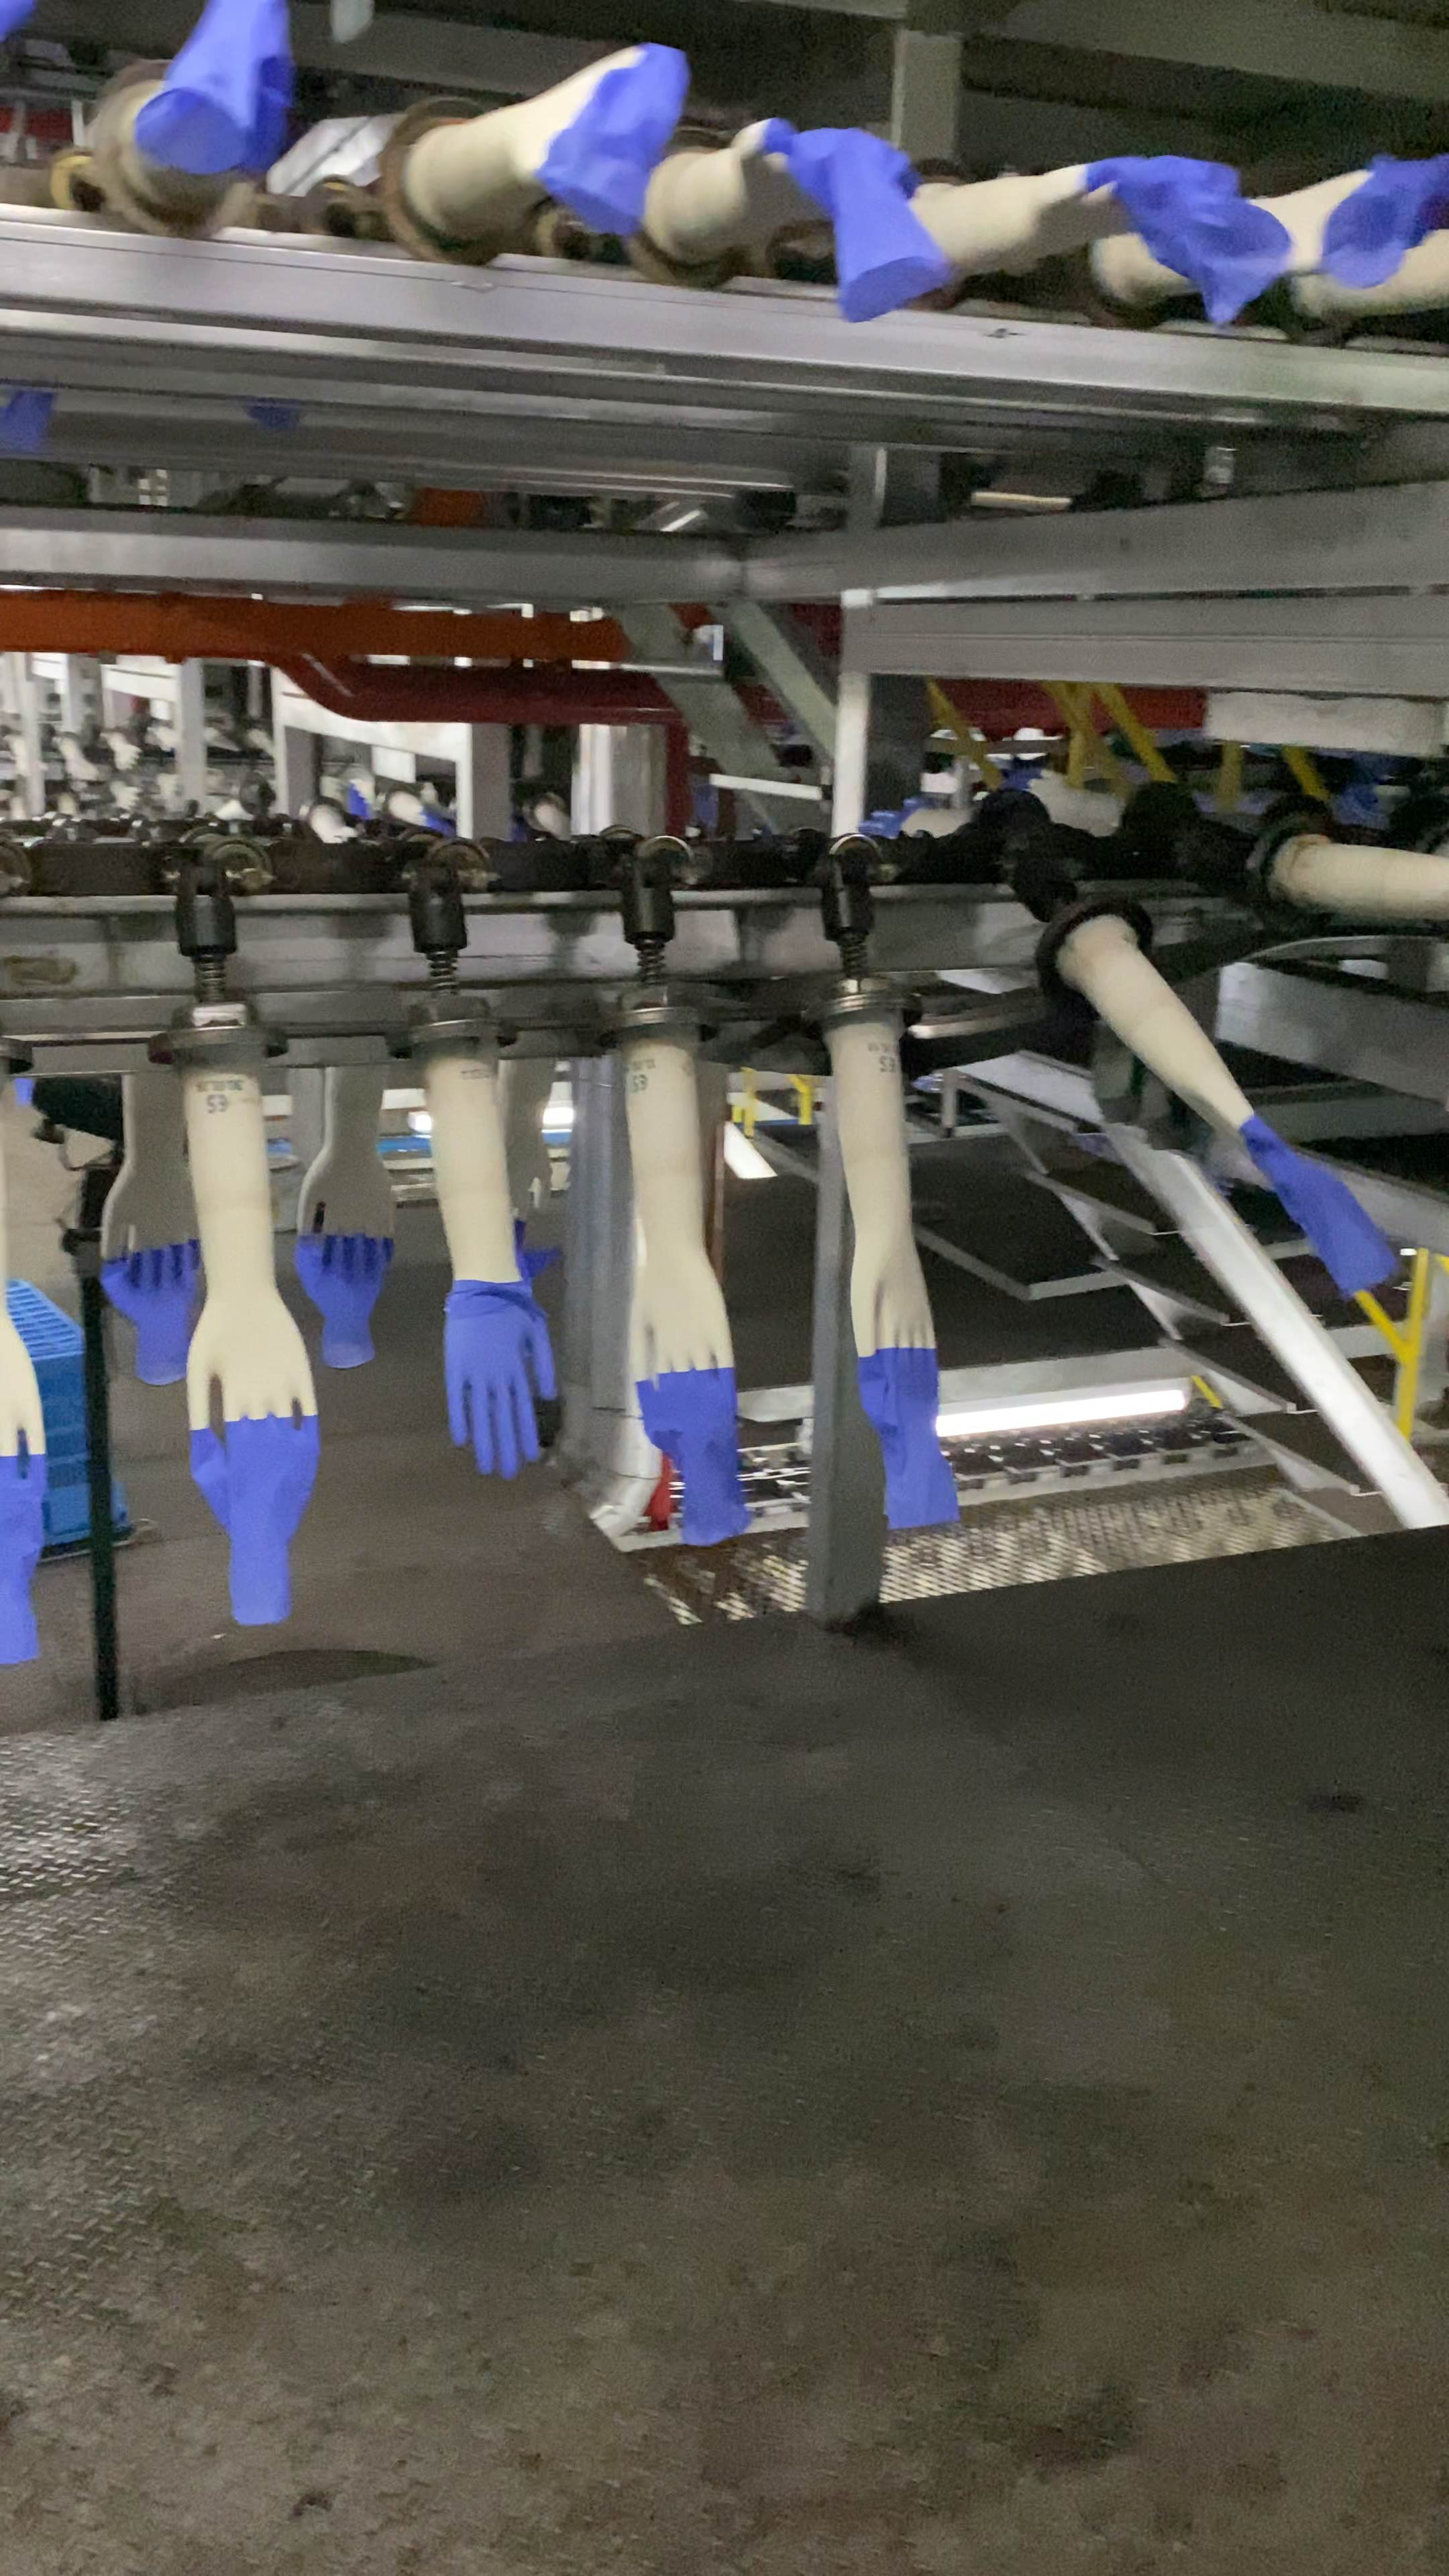glove: (766, 120, 950, 322), (1086, 154, 1288, 318), (538, 39, 690, 234), (1242, 1115, 1398, 1293), (134, 0, 290, 172), (191, 1415, 318, 1624), (444, 1279, 556, 1479), (639, 1371, 750, 1545), (856, 1348, 961, 1527), (1323, 147, 1449, 288), (101, 1240, 198, 1385), (297, 1235, 391, 1368), (0, 1449, 46, 1665)
